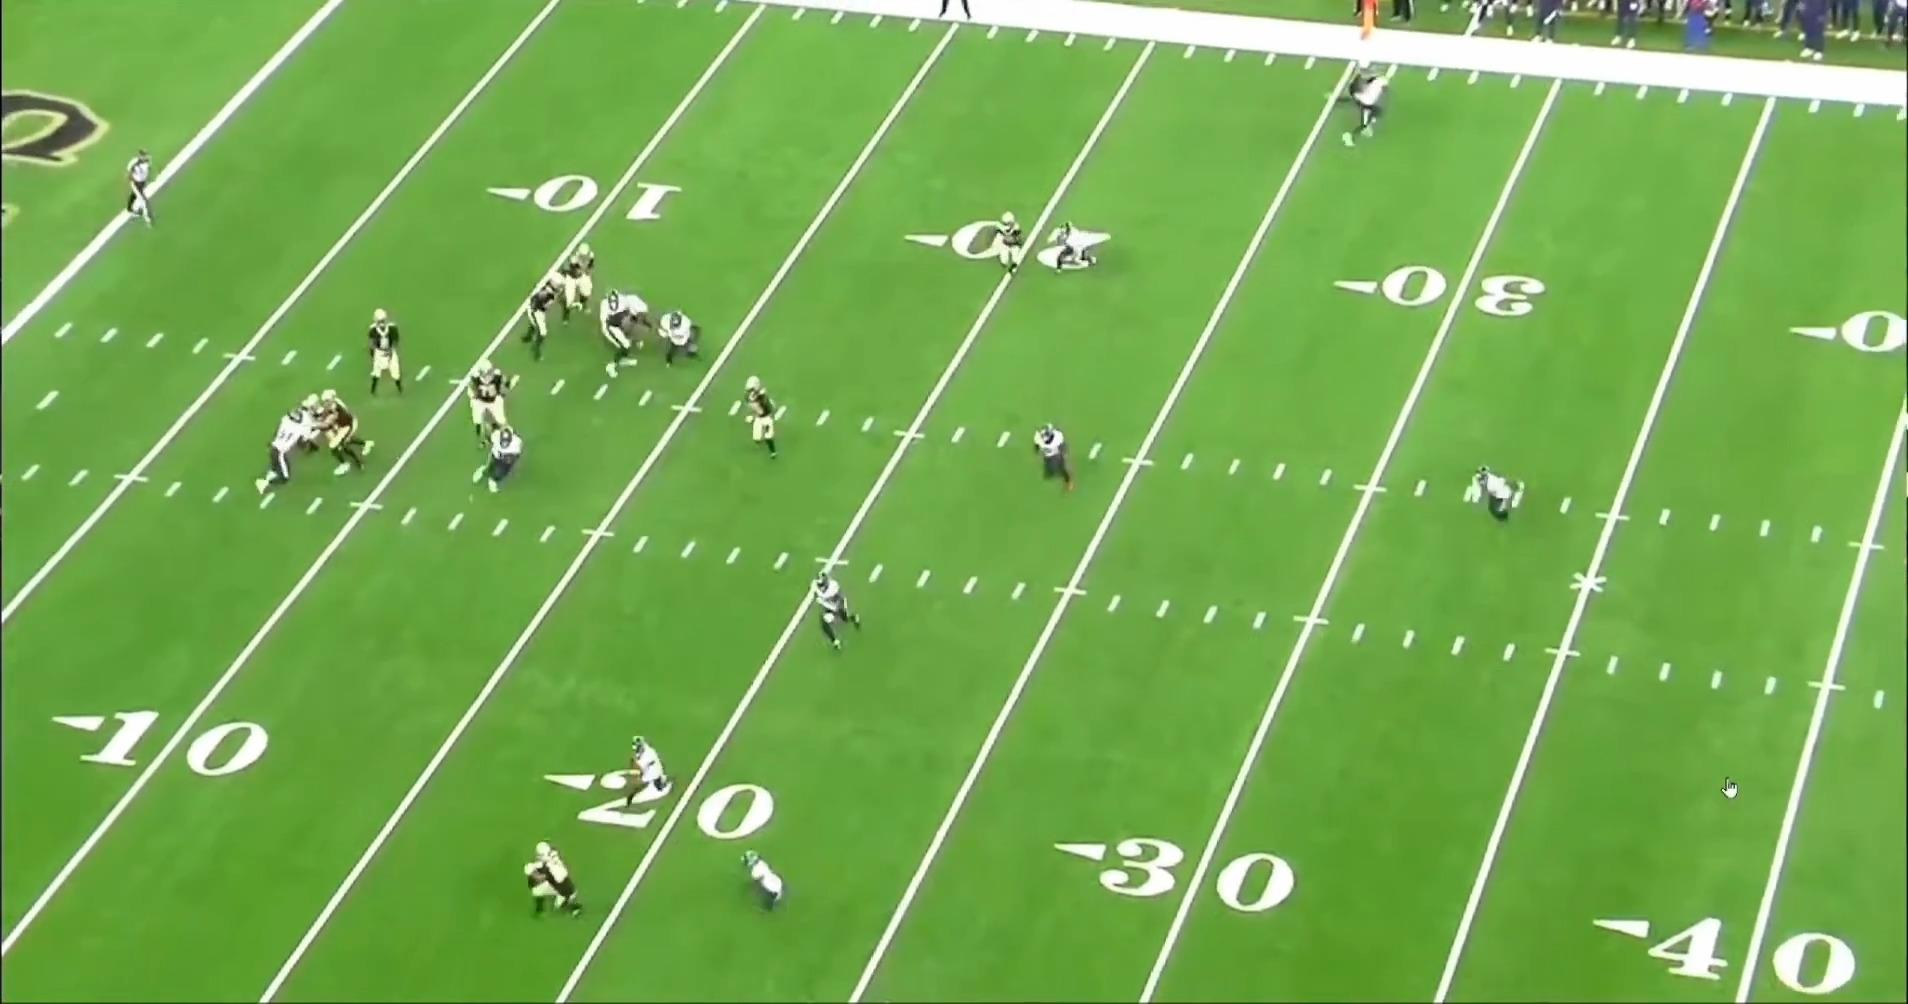player: (256, 405, 328, 505), (305, 385, 375, 480), (521, 838, 586, 919), (813, 571, 870, 654), (621, 731, 679, 810), (511, 272, 561, 363), (1340, 63, 1392, 150), (600, 302, 655, 384), (462, 359, 516, 442), (368, 302, 415, 397), (477, 419, 533, 497), (542, 244, 597, 321), (644, 308, 707, 372), (736, 371, 780, 460), (1462, 464, 1521, 529), (743, 849, 794, 920), (1034, 419, 1081, 494), (1326, 57, 1386, 113), (294, 390, 337, 464), (989, 209, 1029, 281), (1055, 217, 1099, 280), (596, 288, 655, 324)
ref: (130, 143, 168, 233), (927, 0, 977, 23)
